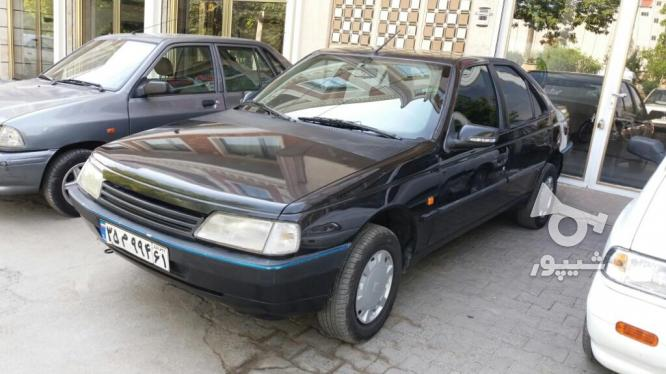car: (99, 221, 174, 274)
